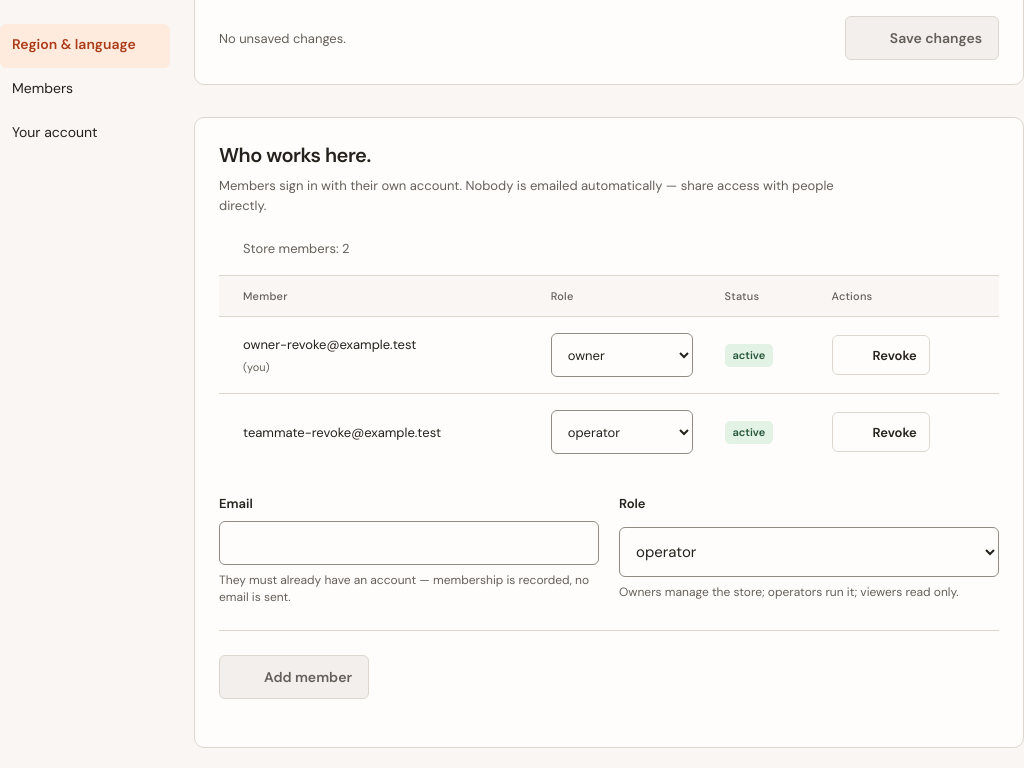
settings store members (owner-managed) › requires a confirmation step before revoking, then revokes
(page scrolled)
Expected: the text "teammate-revoke@example.test" is shown, x1=243 y1=424 x2=441 y2=441
What coordinates should you click on to do the following:
click the button "Revoke" in the row of "teammate-revoke@example.test"
I would click on:
 (881, 432)
Its box is x1=832 y1=412 x2=930 y2=452.
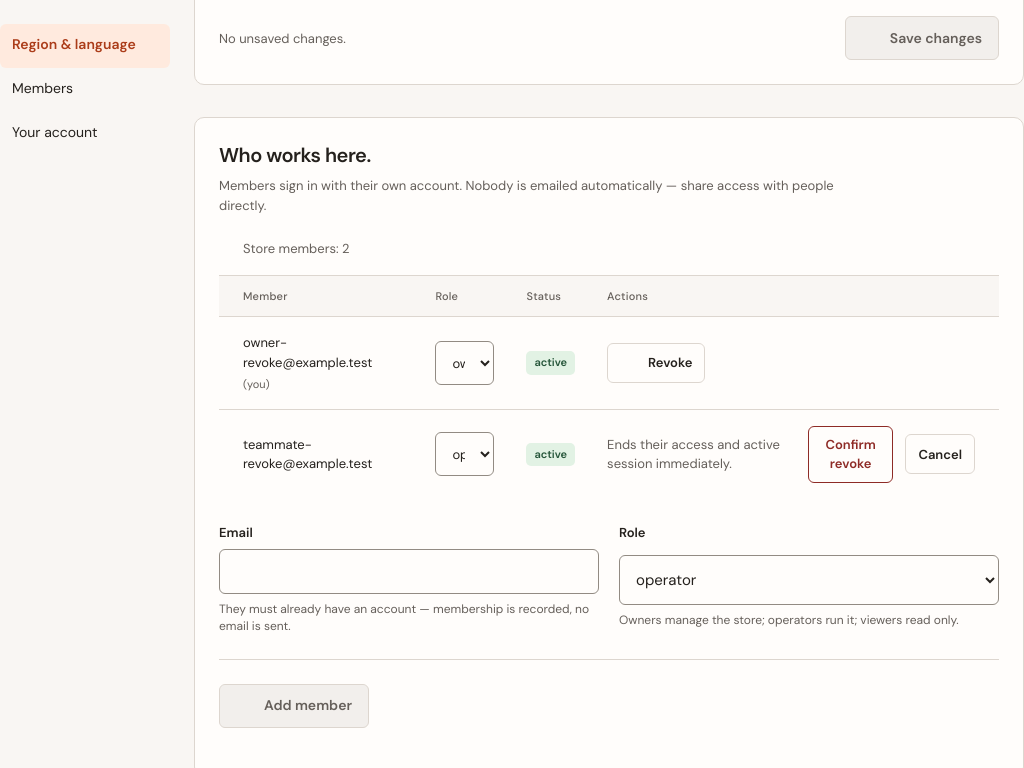
Now the text "Ends their access and active session immediately." is shown, box x1=607 y1=435 x2=796 y2=474
What coordinates should you click on to do the following:
click the button "Confirm revoke"
I would click on:
 (851, 454)
Its box is x1=808 y1=426 x2=893 y2=483.
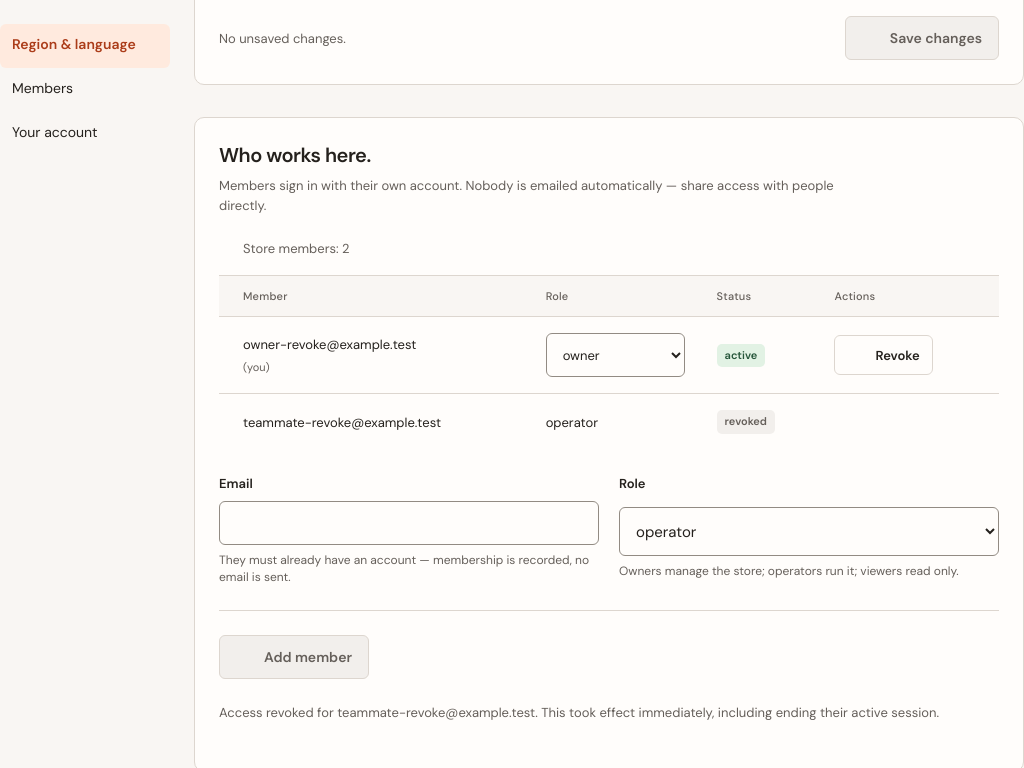
Now the text "Access revoked for teammate-revoke" is shown, box x1=219 y1=704 x2=939 y2=721
Now the text "revoked" is shown, box x1=717 y1=410 x2=775 y2=434
